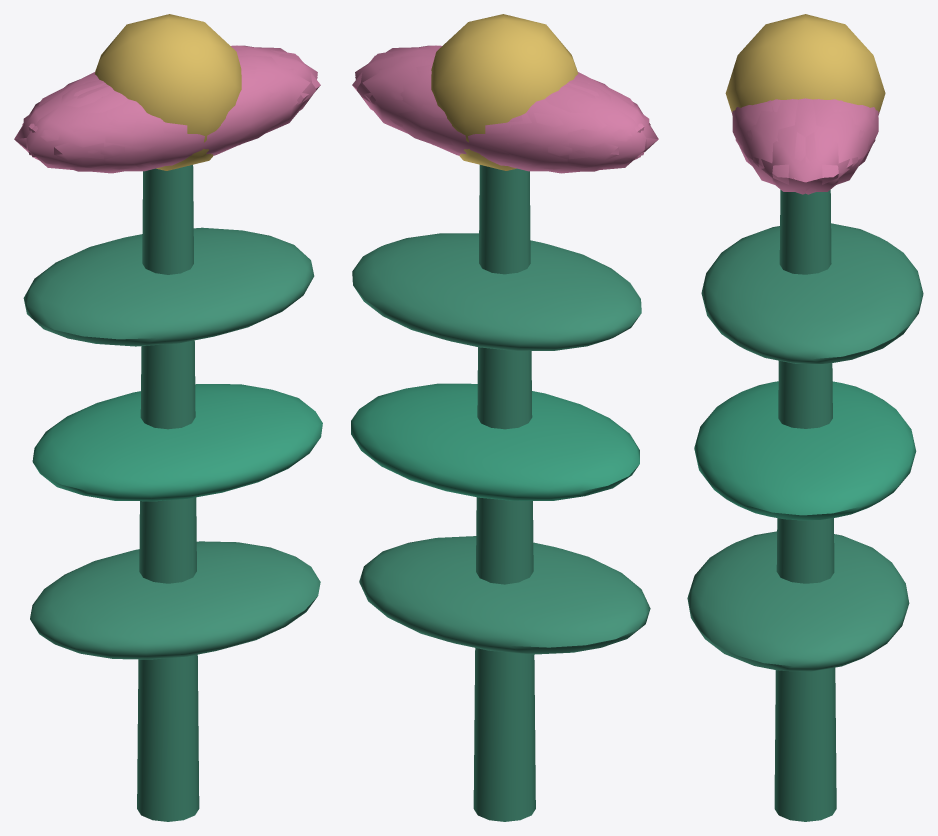
Rendered from ficus-variegata.glb.
3 views of the same model, side by side, from view 1: azimuth 30°, elevation 25°; view 2: azimuth 150°, elevation 25°; view 3: azimuth 270°, elevation 25° (orthographic).
Visible parts, largest first — view 1: stem, leaf0, leaf1, leaf2, center, petal6, petal2, petal1, petal5, petal7, petal0; view 2: stem, leaf2, leaf1, leaf0, center, petal3, petal7, petal8, petal4, petal2, petal0; view 3: leaf2, leaf1, leaf0, stem, center, petal0, petal4, petal5, petal1, petal8.
Boxes of the visible parts, <box> form: stem: <box>137,165,199,821</box>; leaf0: <box>30,541,320,659</box>; leaf1: <box>32,384,322,501</box>; leaf2: <box>23,227,314,346</box>; center: <box>95,14,241,170</box>; petal6: <box>31,85,228,171</box>; petal2: <box>23,80,174,173</box>; petal1: <box>100,64,303,169</box>; petal5: <box>163,54,320,161</box>; petal7: <box>14,74,113,164</box>; petal0: <box>235,47,317,145</box>; stem: <box>473,165,535,821</box>; leaf2: <box>352,233,641,351</box>; leaf1: <box>351,383,639,500</box>; leaf0: <box>359,536,650,654</box>; center: <box>431,14,577,170</box>; petal3: <box>444,85,641,171</box>; petal7: <box>498,80,649,173</box>; petal8: <box>369,64,572,169</box>; petal4: <box>352,54,509,161</box>; petal2: <box>559,74,658,164</box>; petal0: <box>355,47,437,145</box>; leaf2: <box>701,223,923,363</box>; leaf1: <box>694,381,916,520</box>; leaf0: <box>687,531,909,671</box>; stem: <box>774,189,836,821</box>; center: <box>725,14,885,112</box>; petal0: <box>746,98,864,191</box>; petal4: <box>793,99,875,194</box>; petal5: <box>735,99,817,194</box>; petal1: <box>732,99,782,166</box>; petal8: <box>828,99,878,166</box>.
Bounding box in the file's own units: 0.1541 × 0.3914 × 0.1063.
